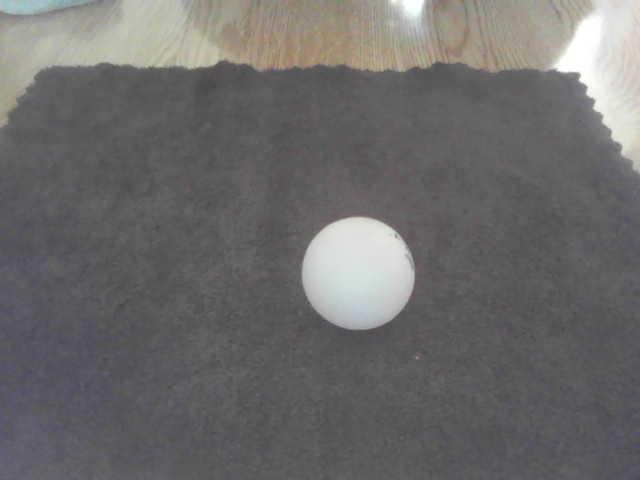ball: (300, 216, 416, 331)
